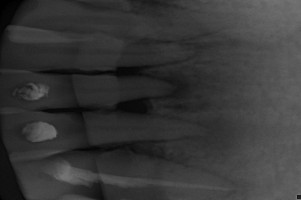Furcation Involvement: (183, 116, 242, 161), (140, 70, 193, 100), (161, 101, 214, 113)
